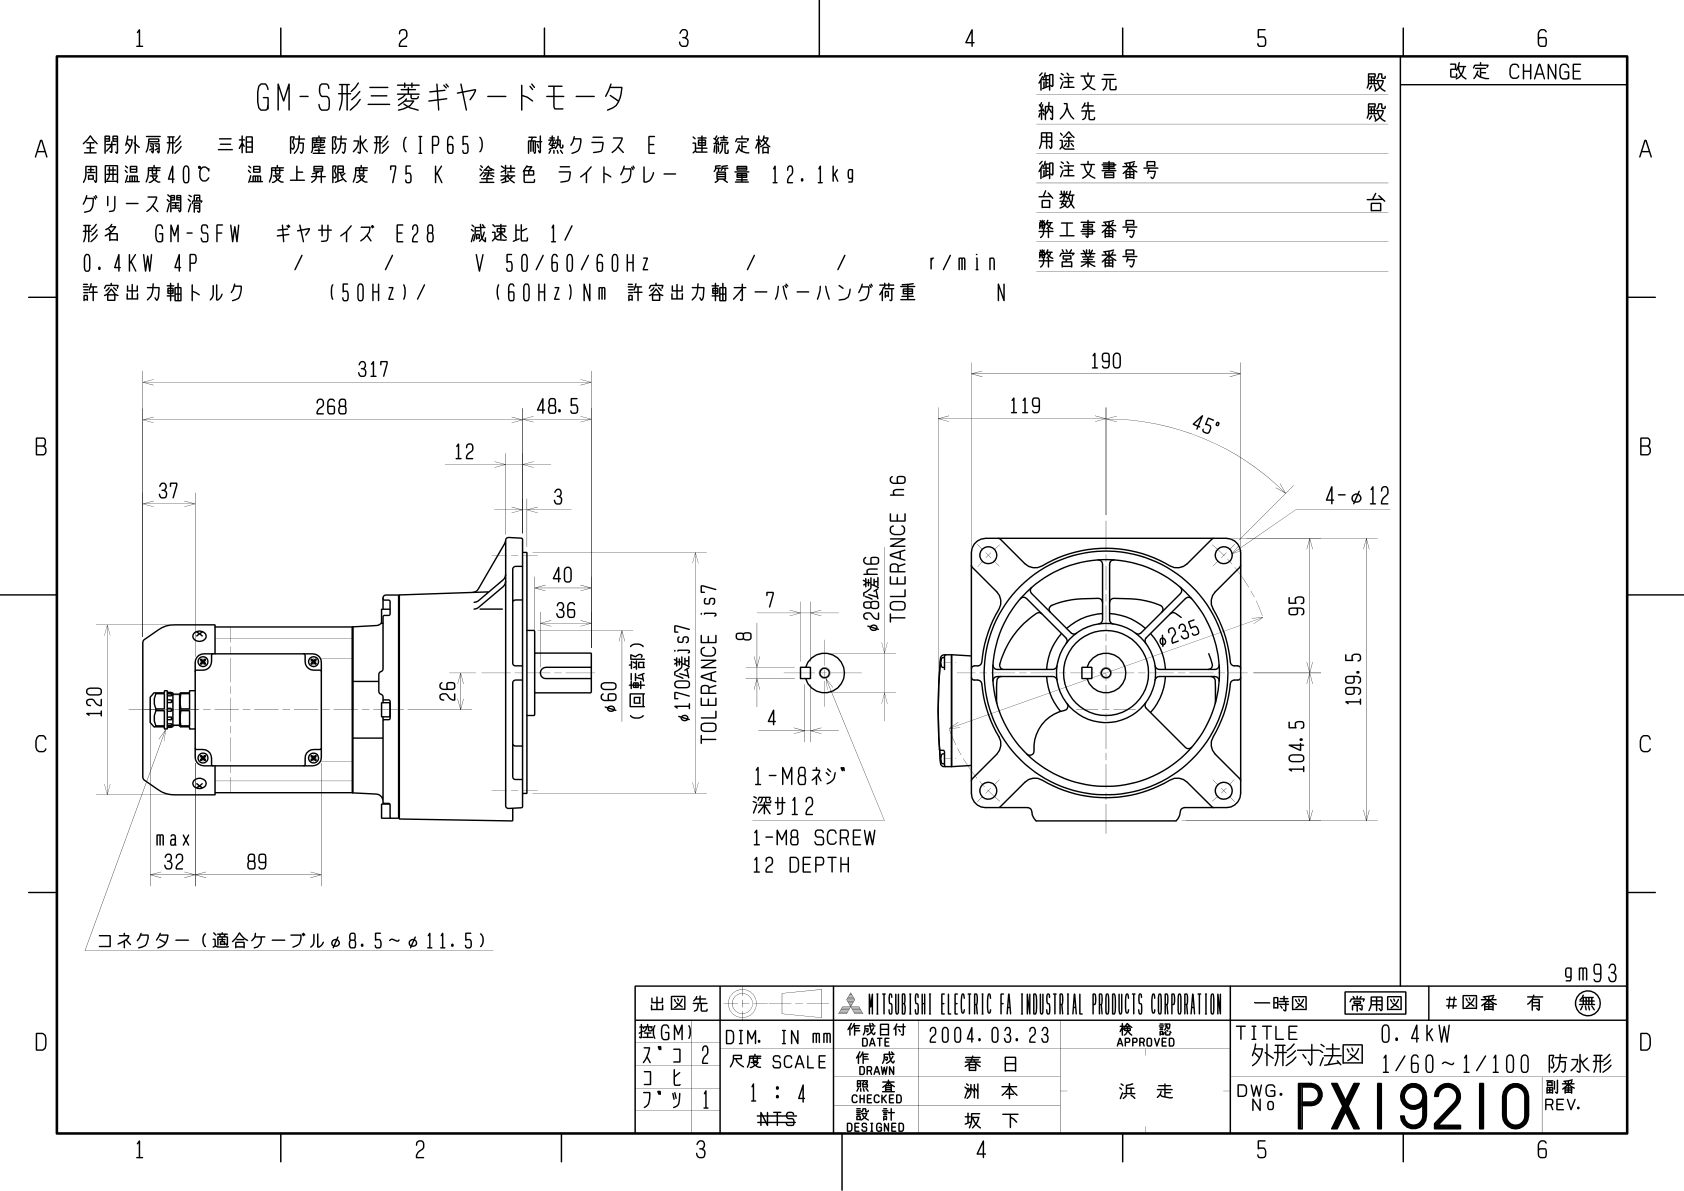GM_S_IP65＿三相_フランジ: (1, 1, 1674, 1169)
